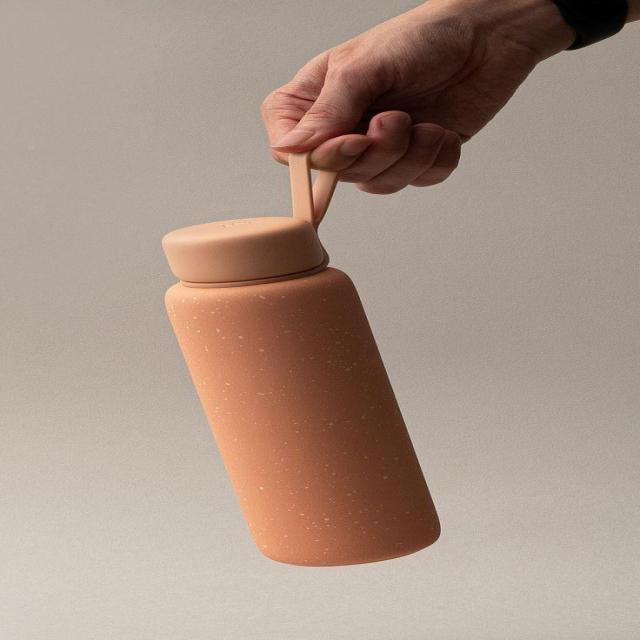gym bottle: (152, 211, 451, 573)
